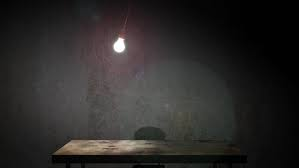bulb: (110, 33, 133, 60)
